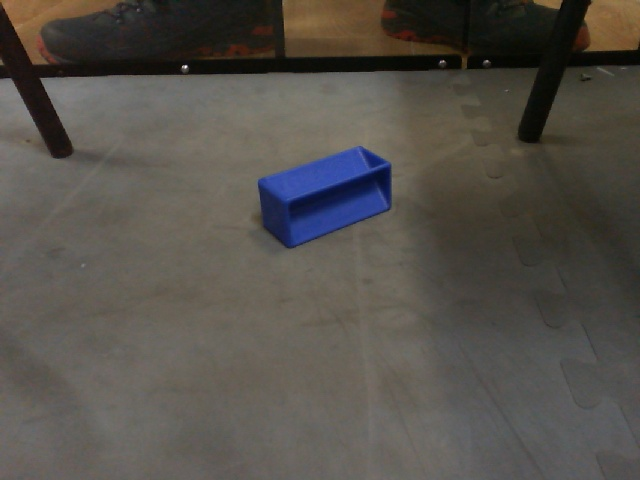BlueSample: (253, 143, 397, 250)
